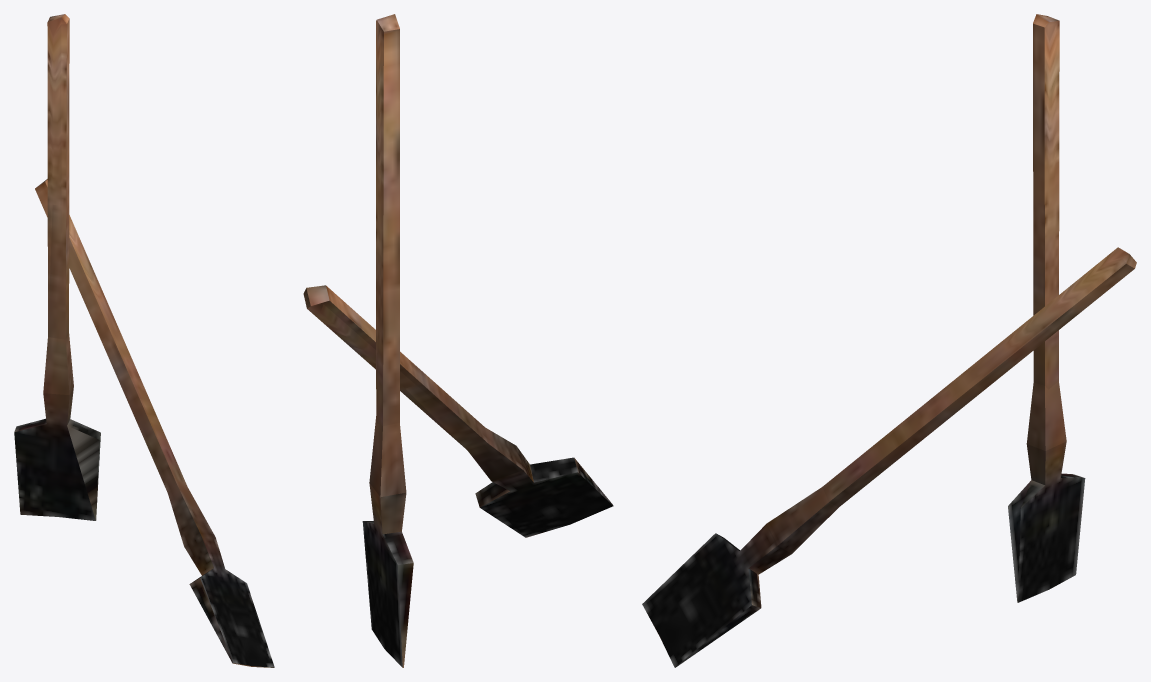
The model's file is shovel.fbx.
3 views of the same model, side by side, from view 1: azimuth 30°, elevation 25°; view 2: azimuth 150°, elevation 25°; view 3: azimuth 270°, elevation 25° (orthographic). The views are drawn at different scales.
Visible parts, largest first — view 1: Shovel, Shovel.001; view 2: Shovel, Shovel.001; view 3: Shovel.001, Shovel.
Boxes of the visible parts, x1,y1,x2,y2 form: Shovel: (14, 14, 100, 520); Shovel.001: (35, 179, 274, 667); Shovel: (362, 14, 413, 667); Shovel.001: (303, 285, 613, 537); Shovel.001: (642, 247, 1136, 667); Shovel: (1008, 14, 1085, 602).
Bounding box in the file's own units: 23.76 × 135 × 97.35.
